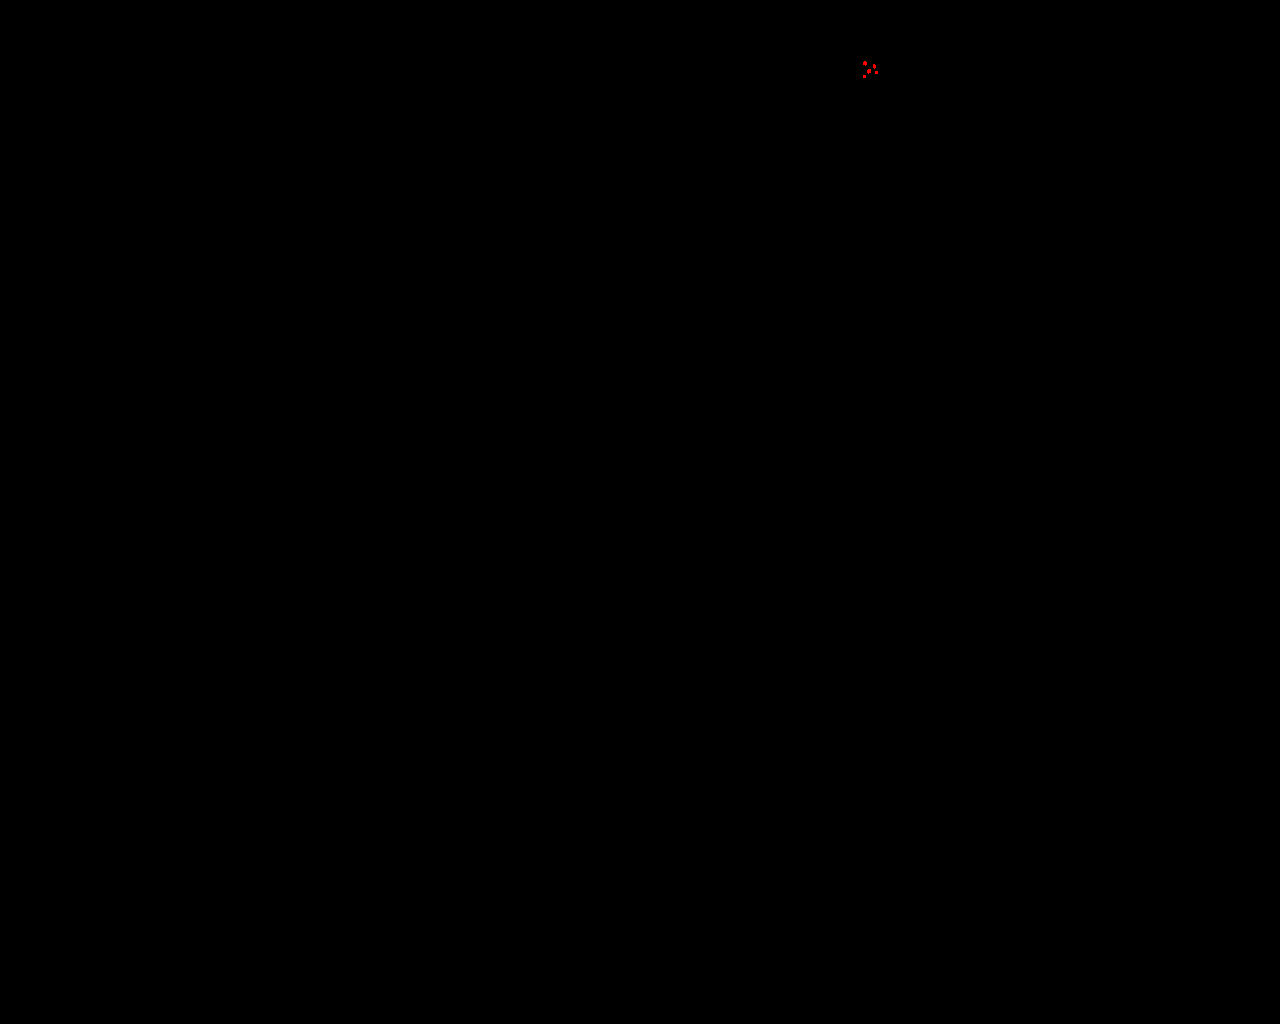Target: (863, 61, 867, 66), (867, 69, 871, 74), (872, 64, 876, 69), (875, 71, 878, 74), (863, 75, 866, 78)
